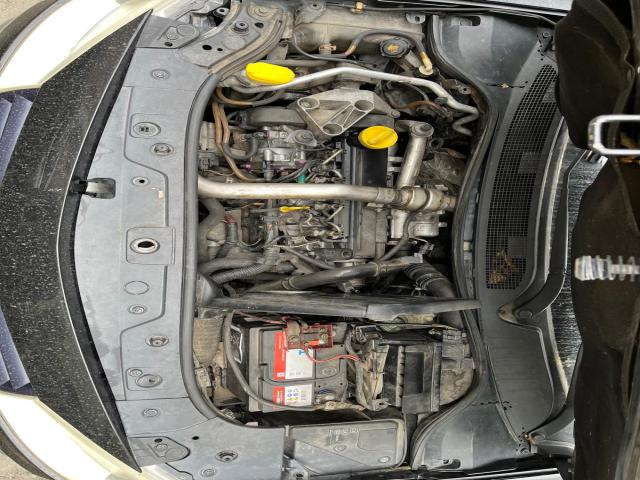accumulator: (230, 316, 348, 406), (227, 371, 280, 412)
alternator: (198, 122, 220, 170)
antifreeze_tank: (292, 6, 425, 56), (353, 34, 415, 58)
fuse_box: (252, 408, 407, 476)
high_pressure_pump: (245, 127, 307, 170)
